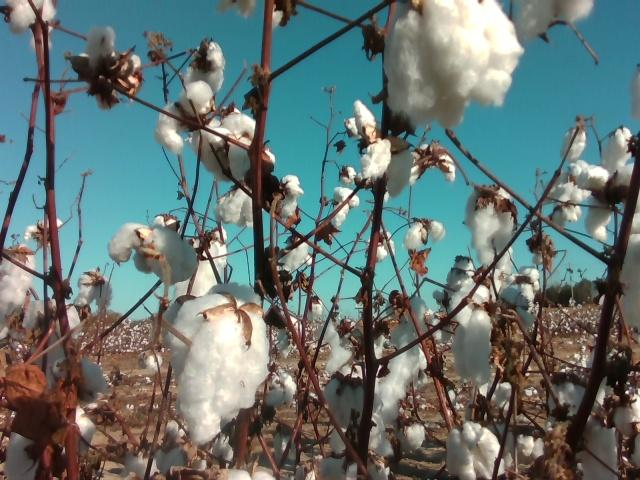cotton_ready: (386, 0, 525, 125), (169, 282, 268, 443), (371, 301, 428, 452), (5, 406, 95, 480), (195, 109, 276, 182), (107, 221, 198, 284), (570, 161, 640, 241), (23, 298, 81, 389), (319, 414, 390, 480), (157, 419, 235, 472), (157, 81, 213, 153), (467, 187, 515, 267), (175, 227, 228, 299), (513, 0, 595, 43), (77, 25, 141, 78), (361, 136, 415, 197), (448, 424, 506, 480), (545, 370, 608, 421), (452, 306, 493, 382), (0, 248, 35, 320), (498, 264, 539, 324), (580, 418, 619, 480), (185, 38, 225, 92), (324, 380, 370, 426), (124, 444, 185, 478), (409, 144, 456, 187), (547, 182, 589, 229), (215, 183, 255, 227), (449, 278, 493, 318), (621, 237, 640, 329), (76, 268, 113, 311), (0, 0, 56, 27), (501, 432, 548, 464), (74, 360, 109, 401), (602, 126, 634, 168), (405, 220, 446, 250), (614, 389, 640, 435), (347, 100, 377, 139), (278, 176, 305, 216), (394, 420, 427, 450), (560, 126, 587, 162), (216, 468, 276, 480), (216, 0, 256, 18), (629, 65, 640, 125), (269, 0, 287, 28)
